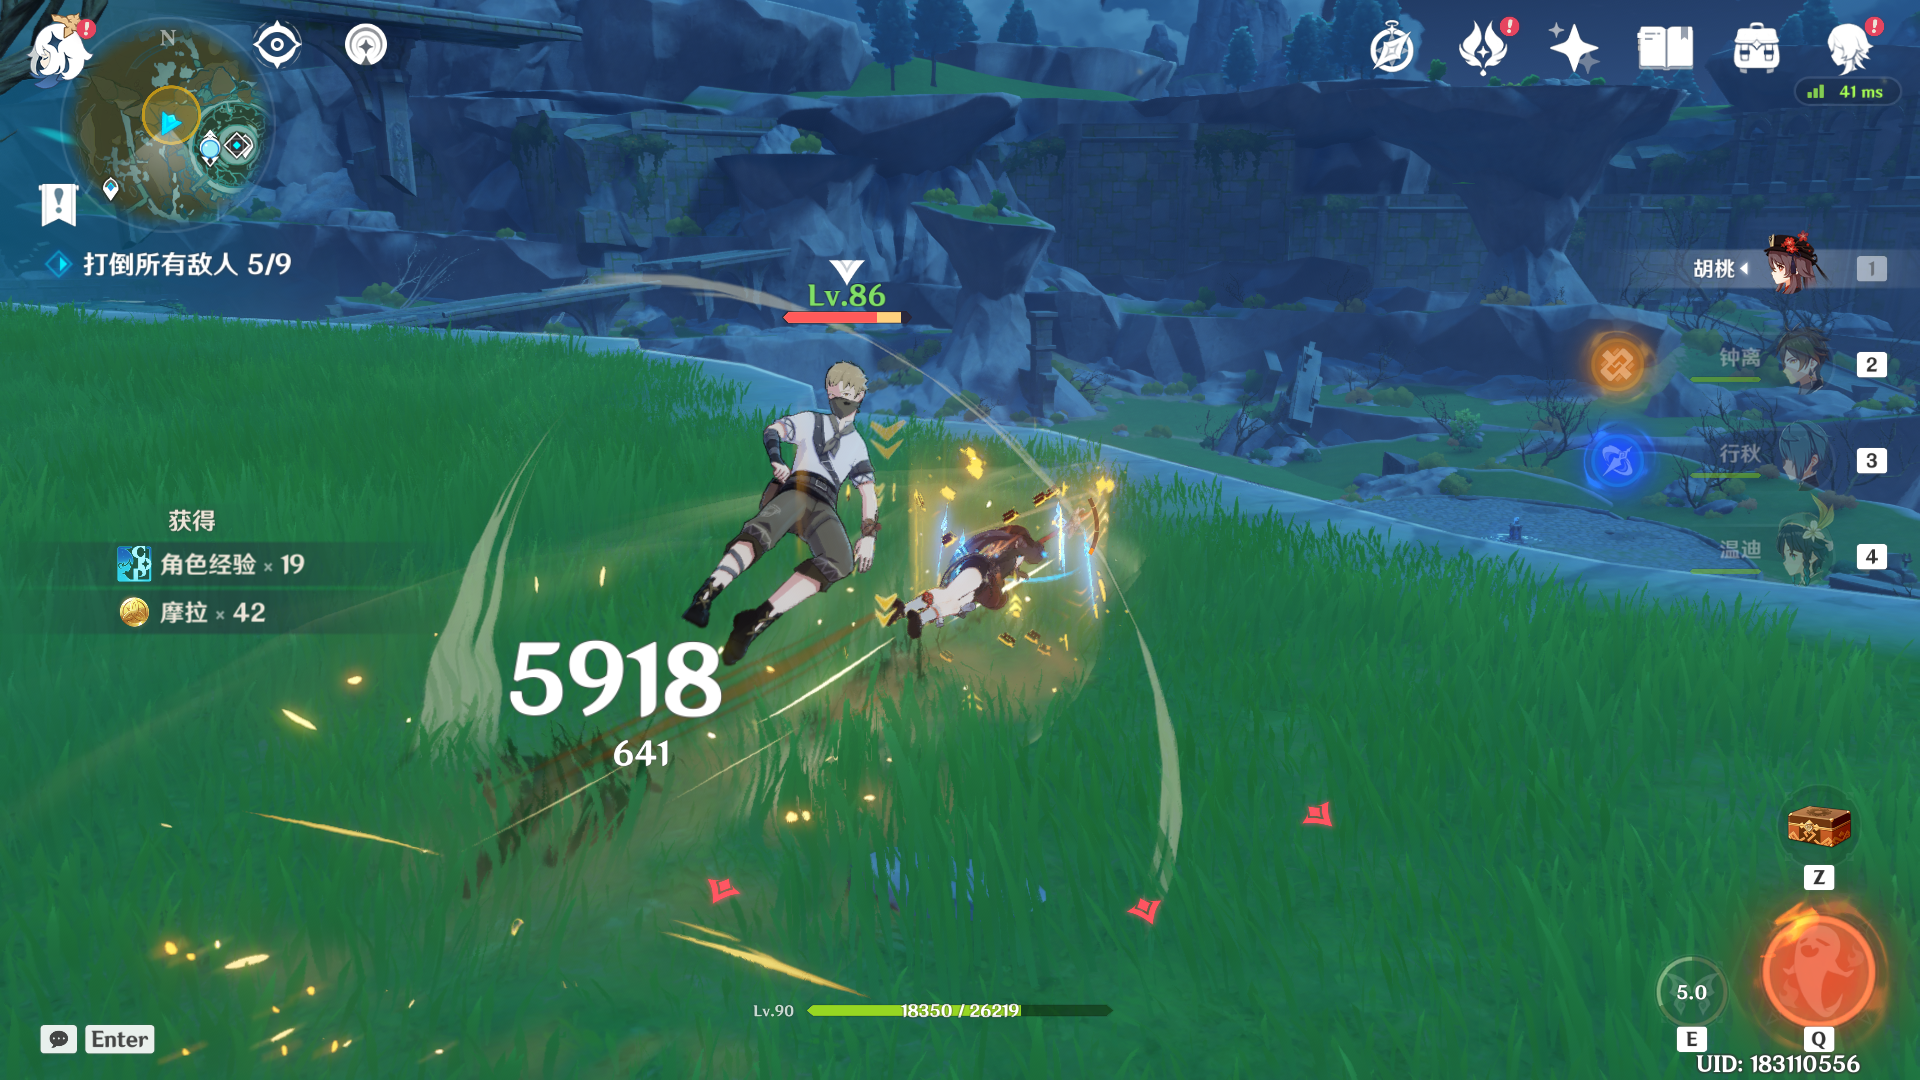character: (884, 488, 1113, 705)
robber: (665, 316, 930, 663)
